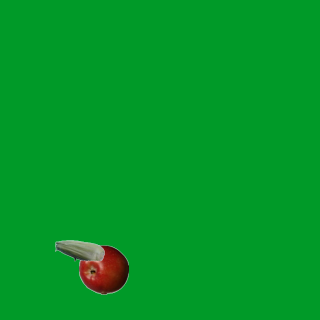Apple Braeburn: (78, 244, 128, 294)
Corn Husk: (54, 225, 104, 275)
